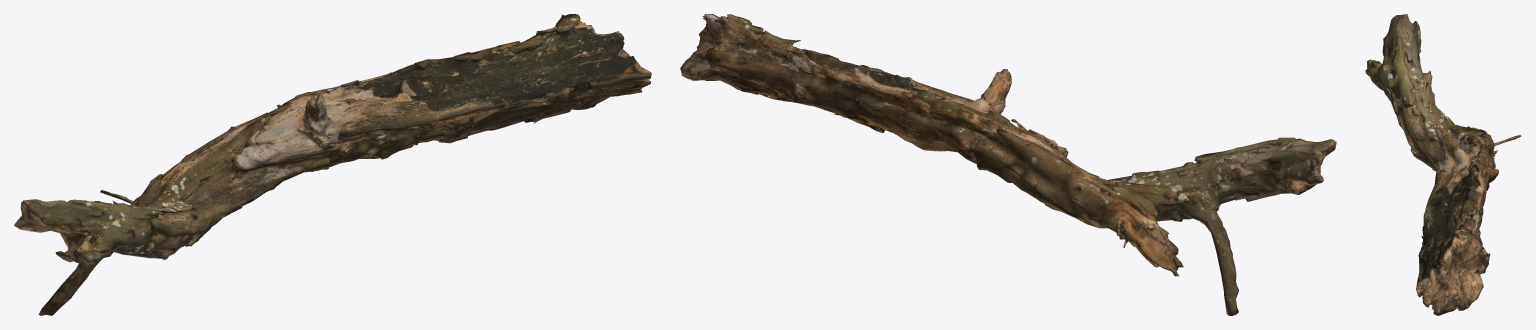
File: dead_tree_trunk_02_1k_md.glb
3 views of the same model, side by side, from view 1: azimuth 30°, elevation 25°; view 2: azimuth 150°, elevation 25°; view 3: azimuth 270°, elevation 25° (orthographic). The views are drawn at different scales.
Parts seen in each view (by area): view 1: dead_tree_trunk_02; view 2: dead_tree_trunk_02; view 3: dead_tree_trunk_02.
Boxes of the visible parts, bbox=[...] form: dead_tree_trunk_02: bbox=[14, 14, 651, 315]; dead_tree_trunk_02: bbox=[680, 14, 1336, 315]; dead_tree_trunk_02: bbox=[1365, 14, 1521, 315].
Size of the model in its own units: 4.05 by 1.05 by 1.05.
Materials: 1 (1 with a texture image).
